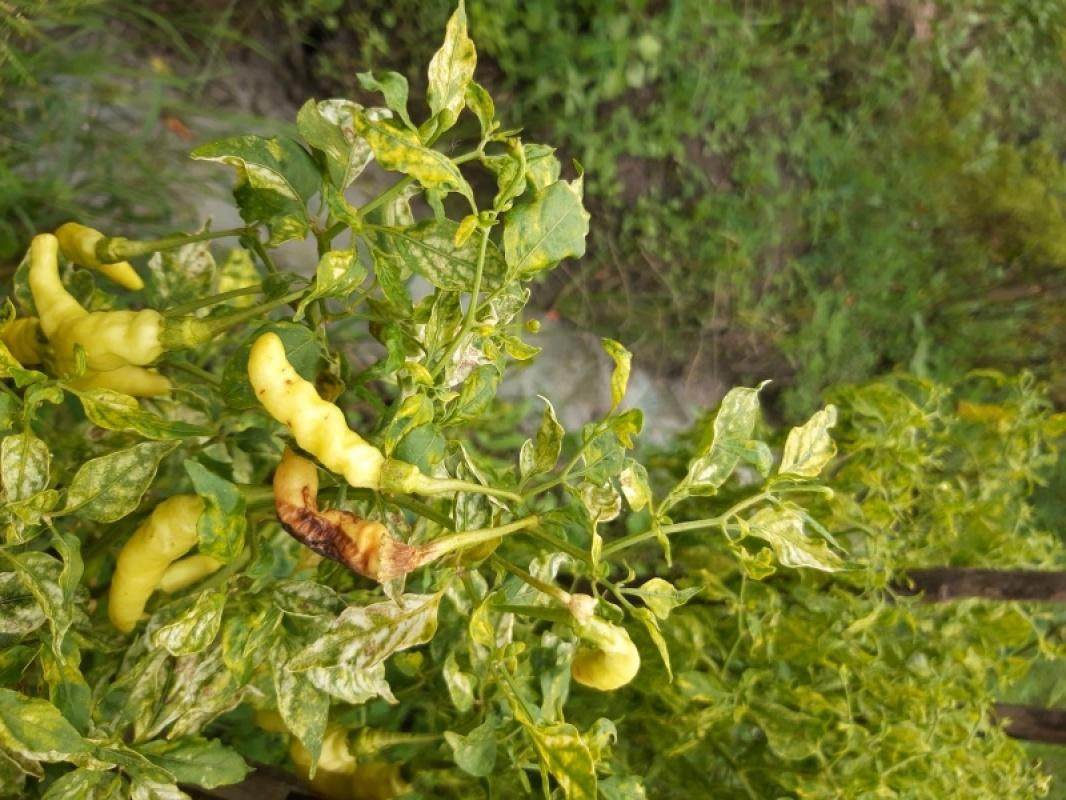antraknosa: (269, 446, 393, 586)
cabai_normal: (246, 331, 385, 492), (28, 230, 161, 372), (106, 494, 207, 633), (564, 591, 641, 692), (56, 222, 145, 293)
